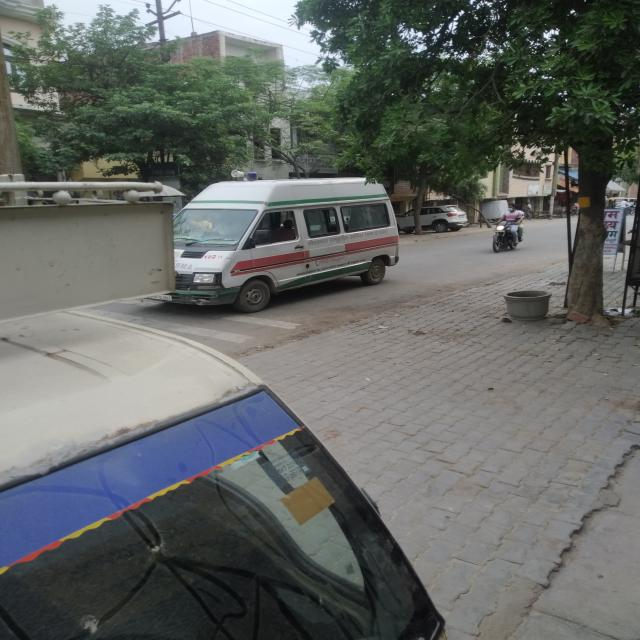Truck: (158, 178, 398, 312)
Two Wheeler: (492, 221, 515, 252)
